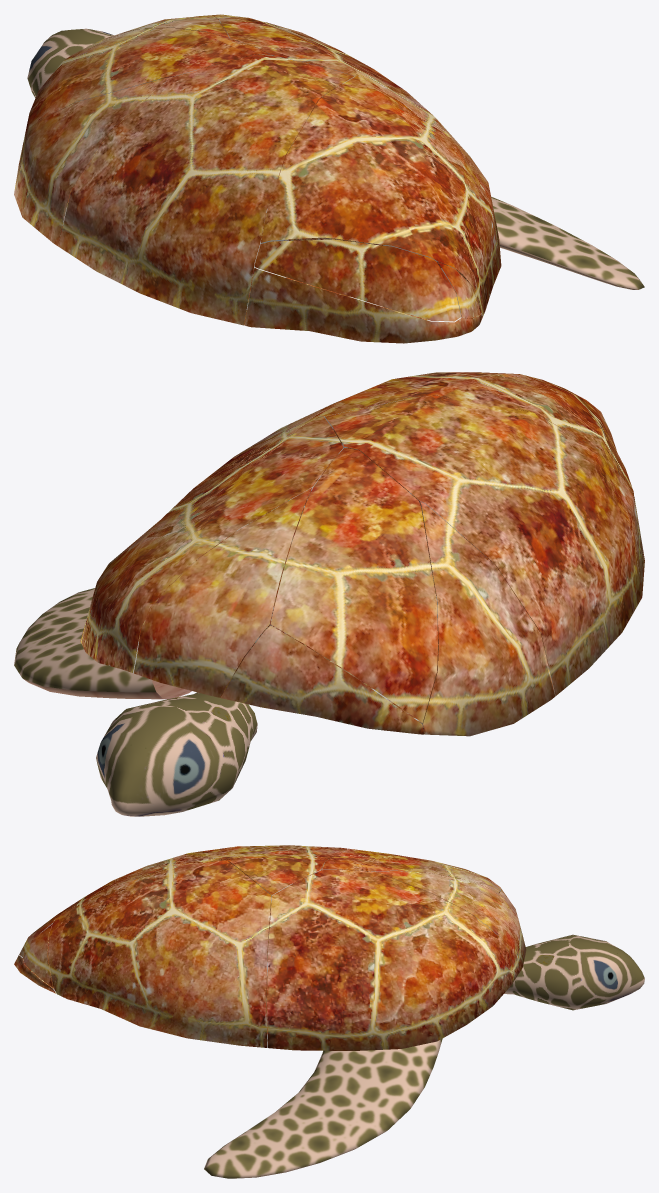
File: Turtle Shell.fbx
3 views of the same model, one above another, from view 1: azimuth 30°, elevation 25°; view 2: azimuth 150°, elevation 25°; view 3: azimuth 270°, elevation 25° (orthographic). The views are drawn at different scales.
Visible parts, largest first — view 1: Shell.001_cell.002, Shell.001_cell.008, Shell.001_cell.004, Shell.001_cell.009, Shell.001_cell.007, Shell.001_cell, Body.002, Shell.001_cell.006, Body.003, Shell.001_cell.005, Shell.001_cell.003; view 2: Shell.001_cell.002, Shell.001_cell.009, Shell.001_cell.006, Shell.001_cell.007, Shell.001_cell.003, Body.003, Shell.001_cell.001, Shell.001_cell.008, Body.002, Shell.001_cell.004; view 3: Shell.001_cell.006, Shell.001_cell.008, Body.002, Body.003, Shell.001_cell.003, Shell.001_cell.002, Shell.001_cell.009, Shell.001_cell.005.
Part boxes in pixels (x1,y1,x2,y2): Shell.001_cell.002: (58, 54, 354, 325); Shell.001_cell.008: (261, 76, 501, 315); Shell.001_cell.004: (254, 238, 461, 321); Shell.001_cell.009: (20, 28, 272, 156); Shell.001_cell.007: (14, 77, 172, 245); Shell.001_cell: (244, 267, 482, 343); Body.002: (491, 196, 644, 289); Shell.001_cell.006: (212, 14, 419, 103); Body.003: (27, 28, 113, 97); Shell.001_cell.005: (437, 262, 480, 318); Shell.001_cell.003: (125, 15, 229, 37); Shell.001_cell.002: (324, 395, 644, 696); Shell.001_cell.009: (270, 447, 438, 722); Shell.001_cell.006: (80, 416, 343, 673); Shell.001_cell.007: (419, 501, 555, 736); Shell.001_cell.003: (133, 487, 312, 697); Body.003: (96, 692, 257, 816); Shell.001_cell.001: (220, 625, 424, 734); Shell.001_cell.008: (257, 372, 618, 473); Body.002: (14, 588, 191, 699); Shell.001_cell.004: (564, 388, 633, 495); Shell.001_cell.006: (266, 869, 514, 1050); Shell.001_cell.008: (47, 854, 271, 1047); Body.002: (204, 1038, 442, 1178); Body.003: (504, 934, 644, 1010); Shell.001_cell.003: (376, 871, 526, 979); Shell.001_cell.002: (185, 845, 347, 896); Shell.001_cell.009: (322, 849, 500, 892); Shell.001_cell.005: (23, 924, 53, 987).
Bounding box in the file's own units: 167 × 83.14 × 236.
